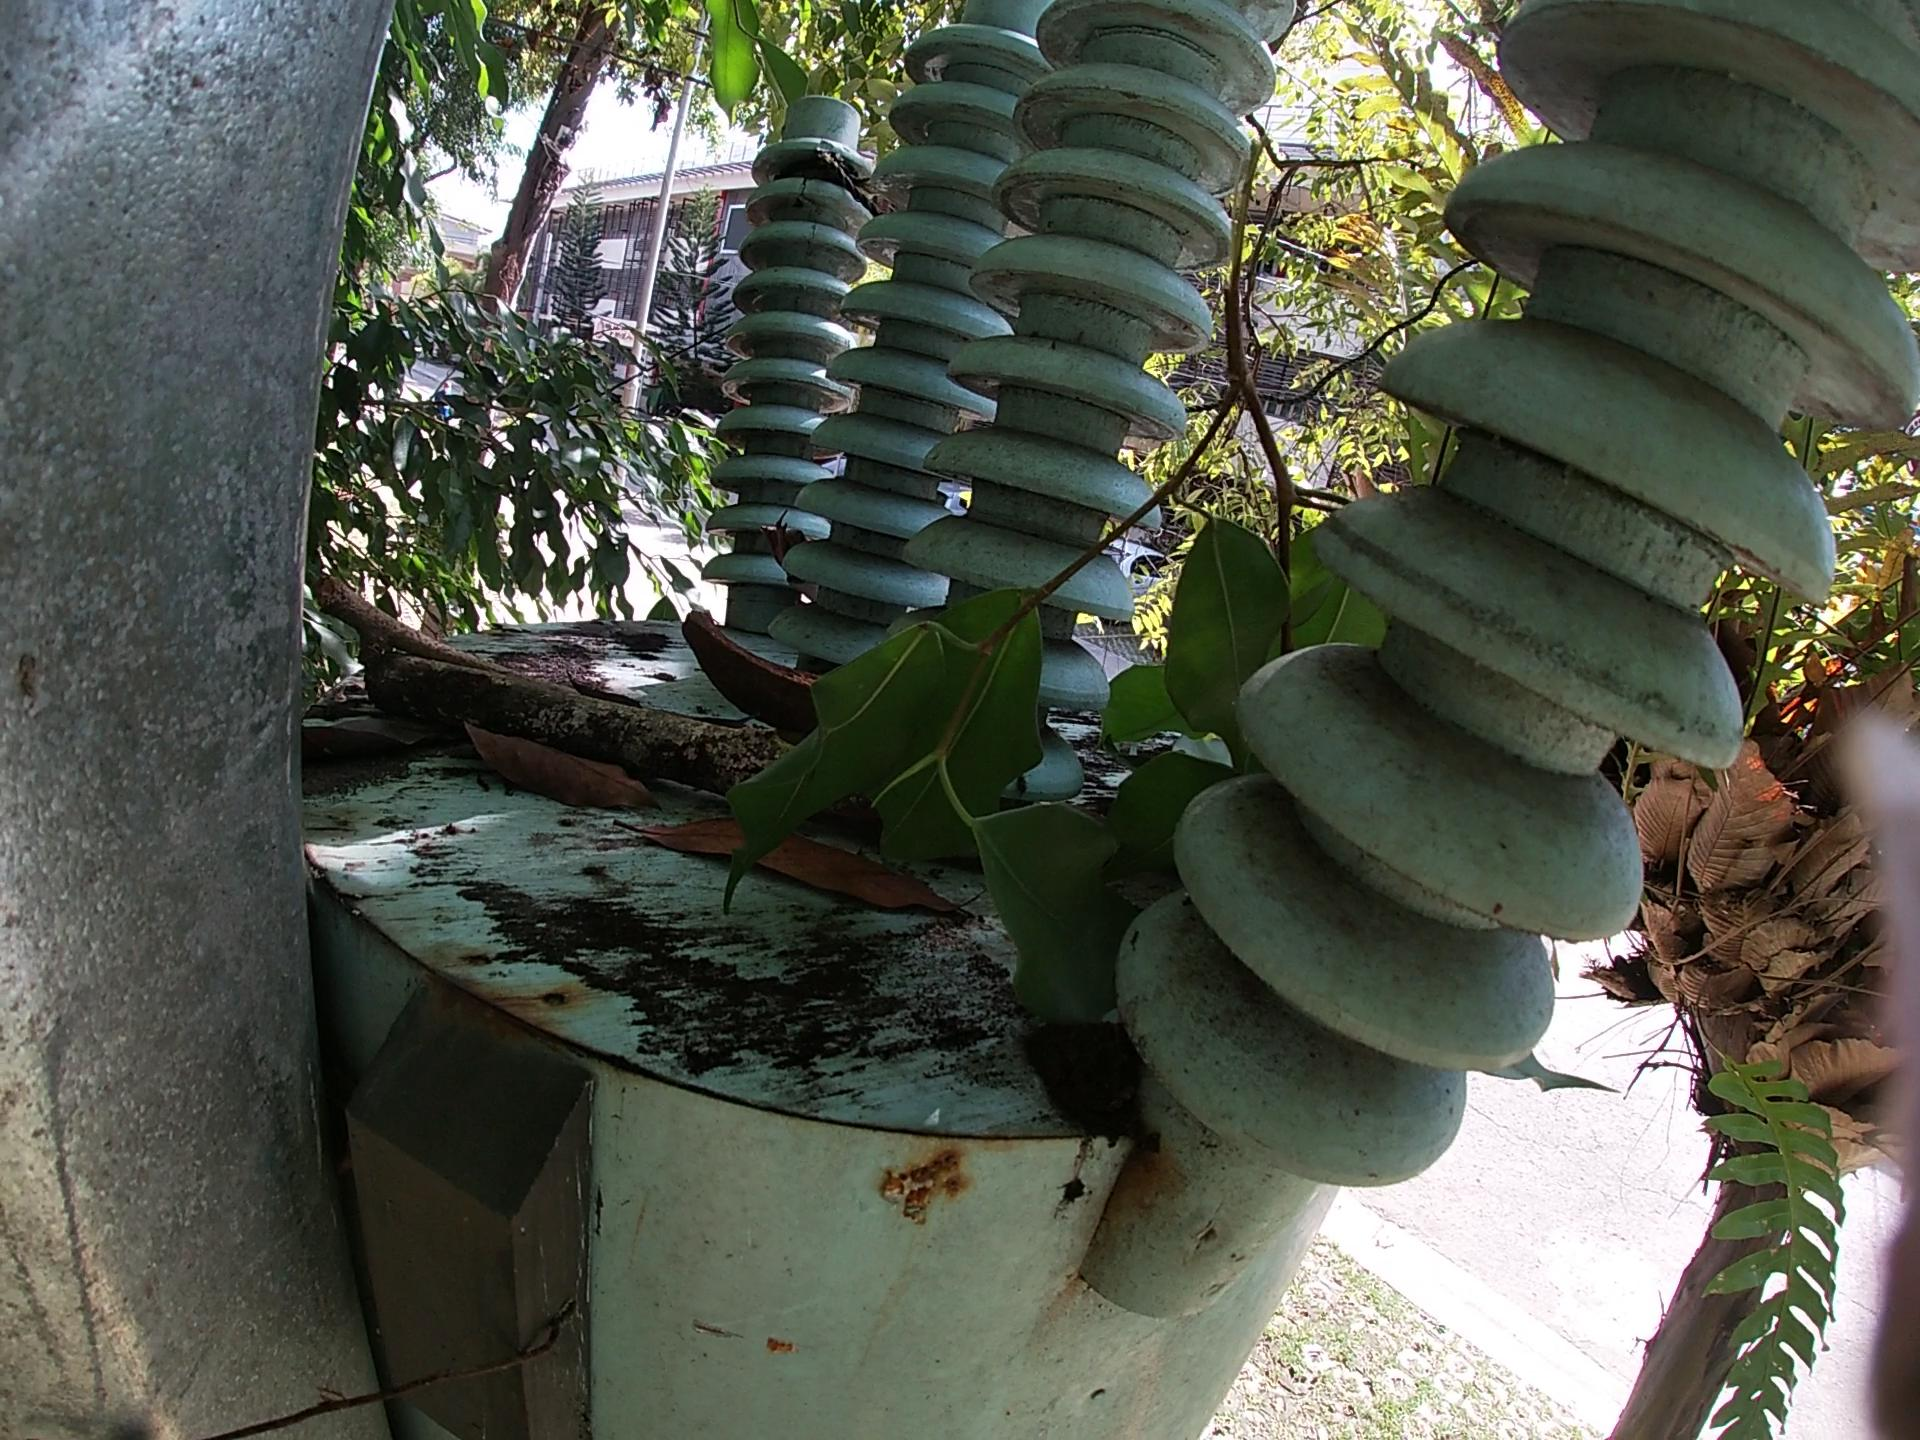branch with leaves: (709, 113, 1395, 1190)
leaf: (599, 812, 974, 930), (472, 729, 671, 812), (1466, 1045, 1634, 1103), (268, 731, 429, 777)
mahogany fruit: (671, 590, 825, 731)
tree branch: (348, 638, 795, 782), (311, 563, 508, 669)
